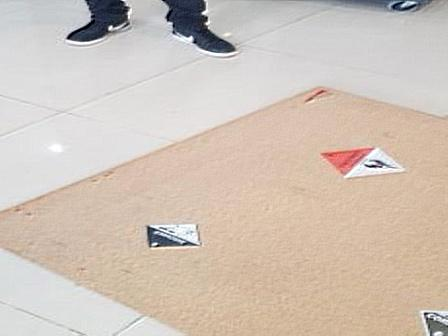corrosive: (146, 223, 200, 248)
spontaneously-combustible: (319, 147, 410, 178)
